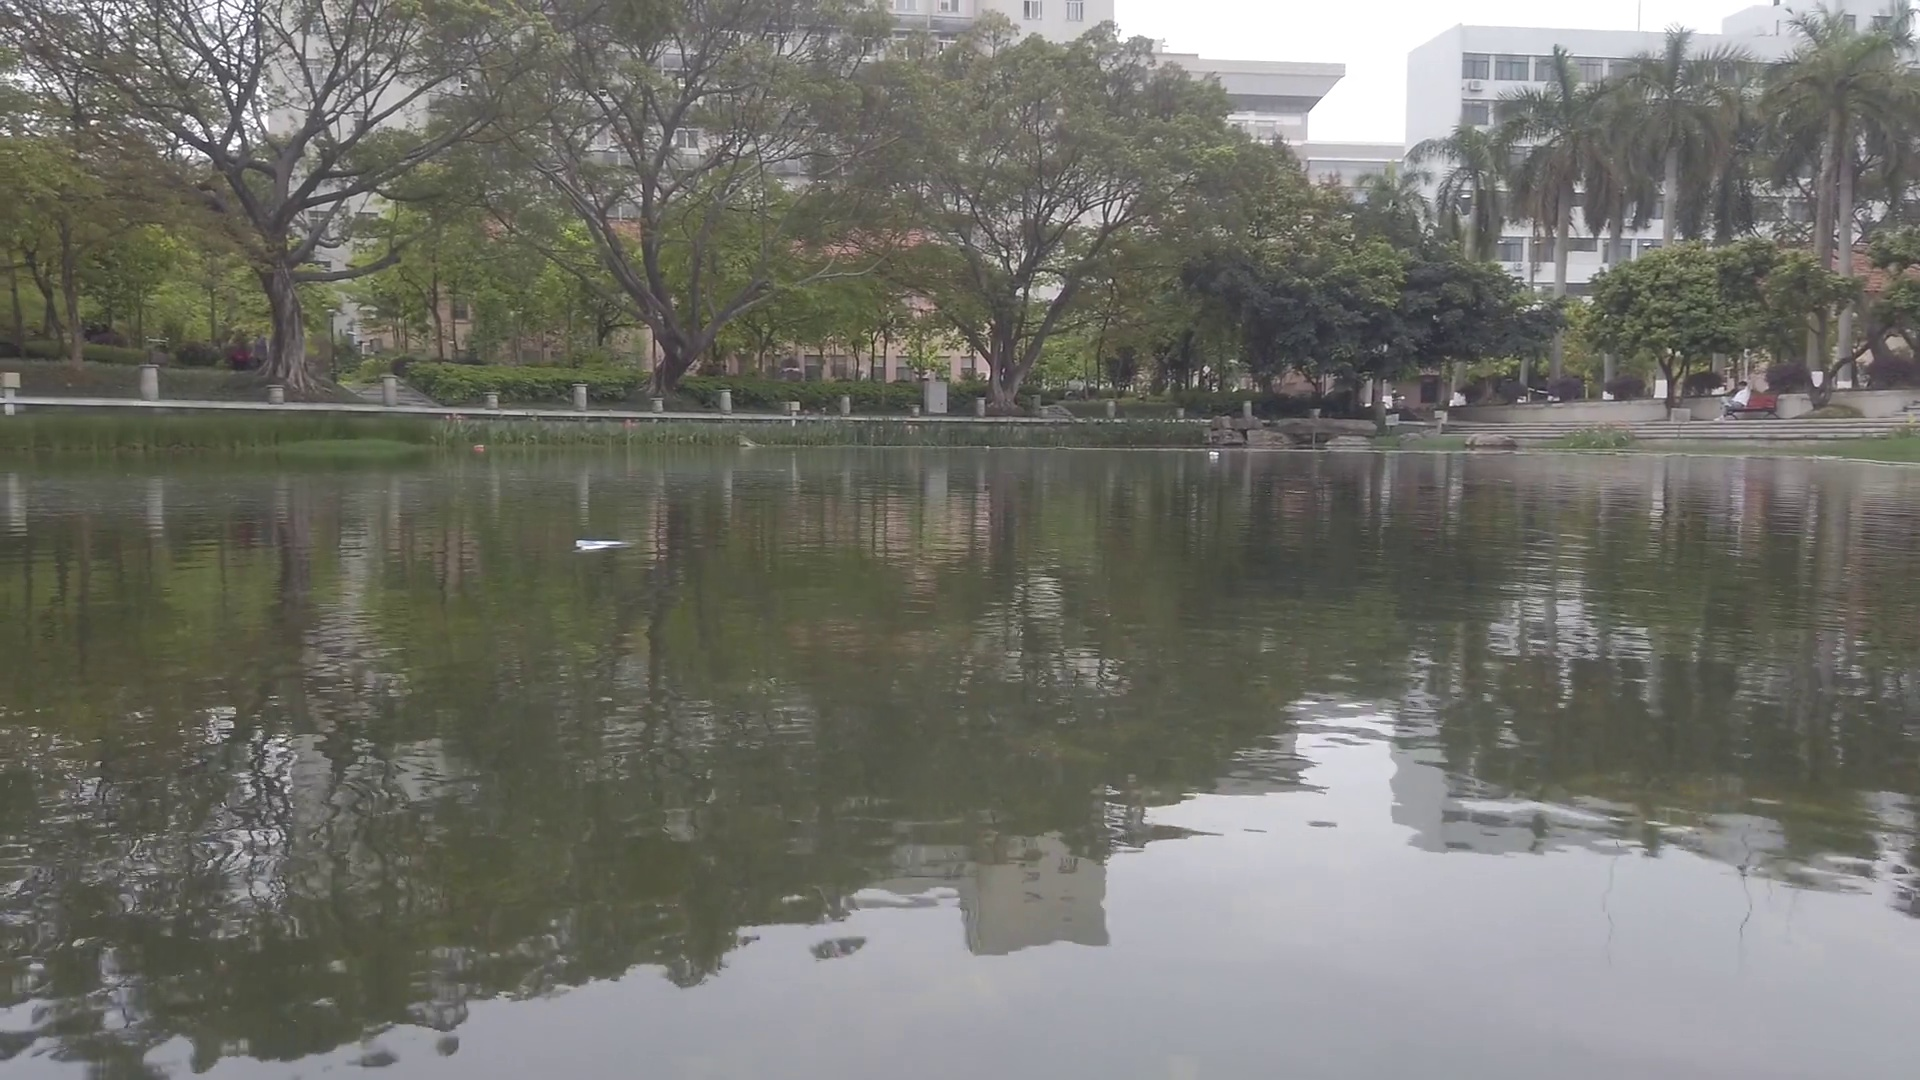bottle: (469, 444, 487, 455), (1208, 448, 1220, 460)
paper: (576, 535, 634, 551)
